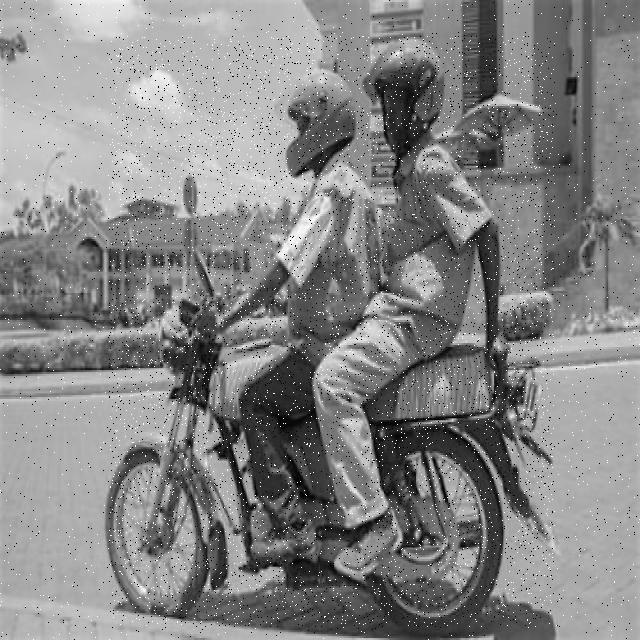Motorbike: (109, 36, 555, 627)
